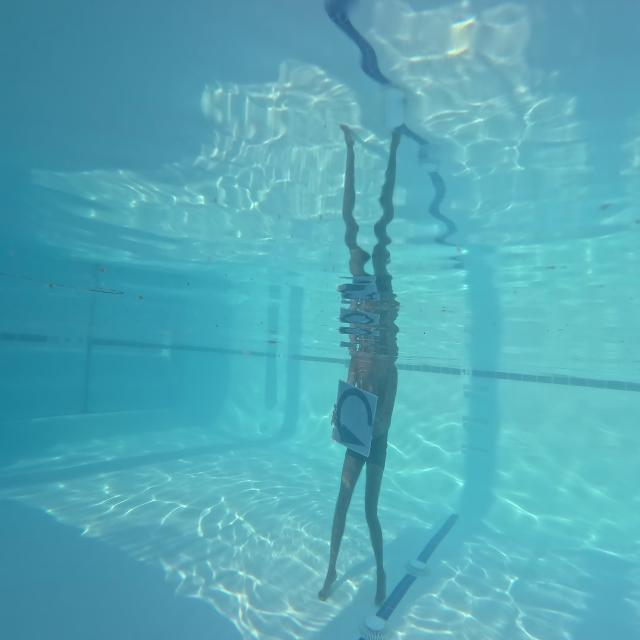blue_side: (333, 378, 377, 456)
